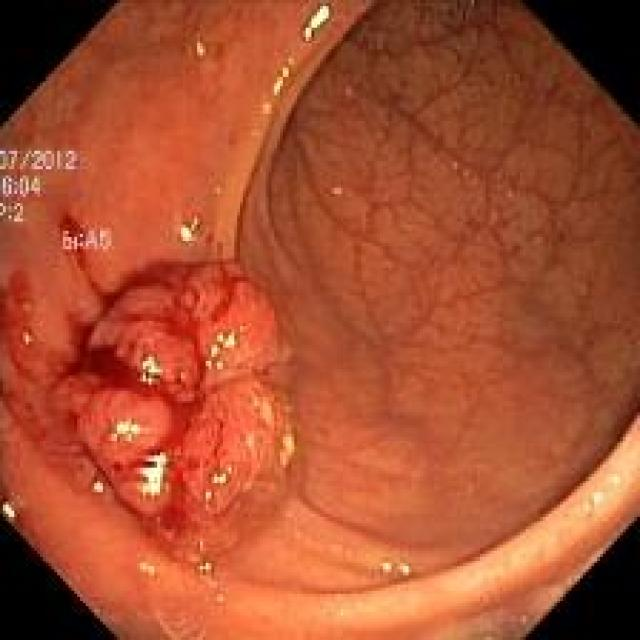Polyps: (55, 263, 295, 559)
